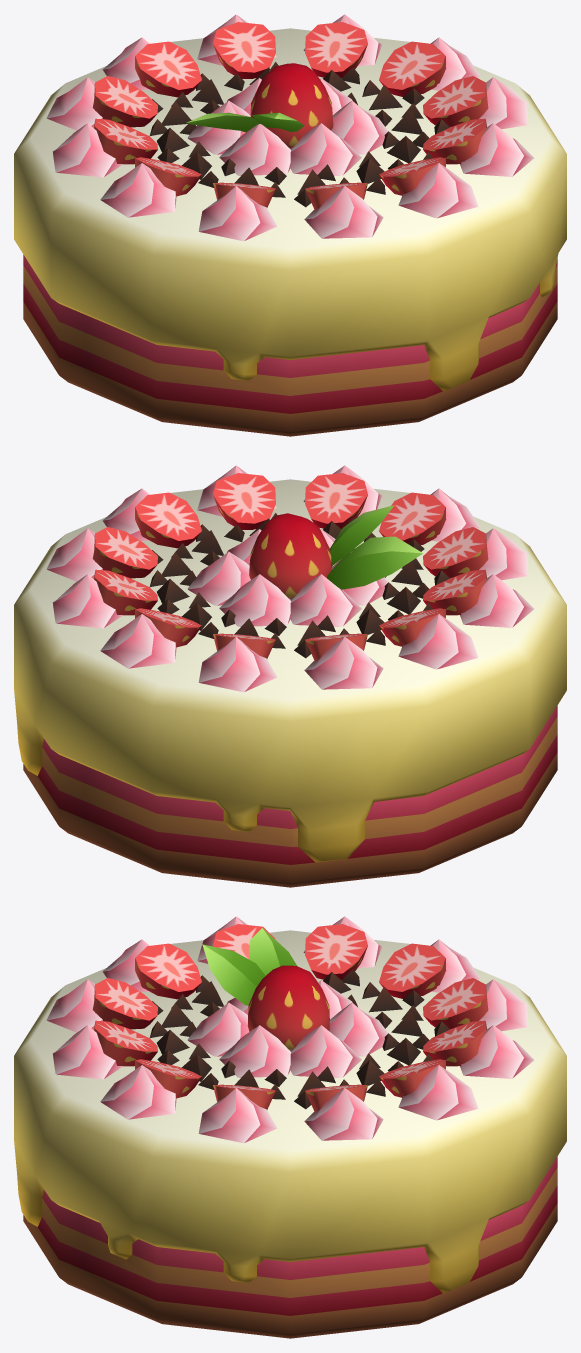
Rendered from m_Cake02.fbx.
3 renders of one model, top to bottom at view 1: azimuth 30°, elevation 25°; view 2: azimuth 150°, elevation 25°; view 3: azimuth 270°, elevation 25°, orthographic.
Parts seen in each view (by area): view 1: m_Cake02; view 2: m_Cake02; view 3: m_Cake02.
Part boxes in pixels (<box>): m_Cake02: <box>14,14,566,436</box>; m_Cake02: <box>14,465,566,887</box>; m_Cake02: <box>14,916,566,1338</box>.
Size of the model in its own units: 28.97 by 15.06 by 28.97.
